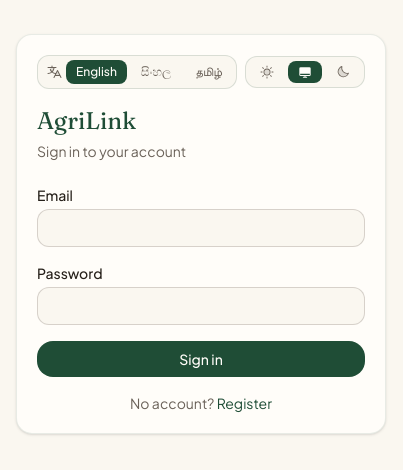
Scenario: LoginPage › shows a generic error for a server failure
This screenshot has width=403, height=470.
In the field labelled "Email": (201, 228) [37,209,365,247], type "farmer@agrilink.lk"
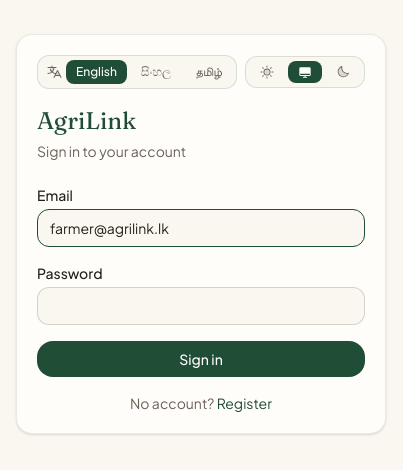
In the password field labelled "Password": (201, 306) [37,287,365,325], type "Farmer@AgriLink.2026!"
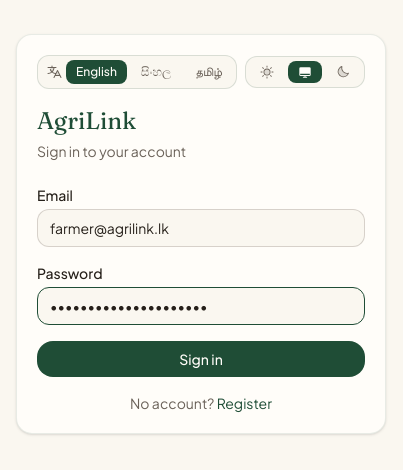
Click the button "Sign in": click(201, 359) [37,341,365,377]
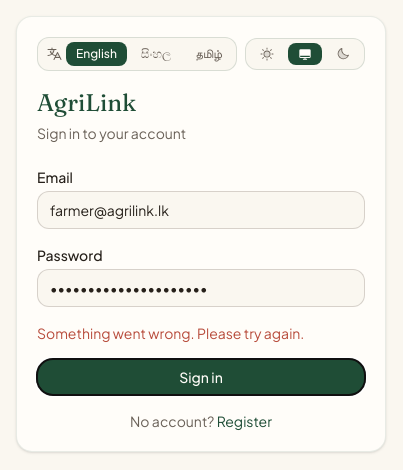
expect the text "Something went wrong. Please try again." is shown: met, box [37,324,304,342]
